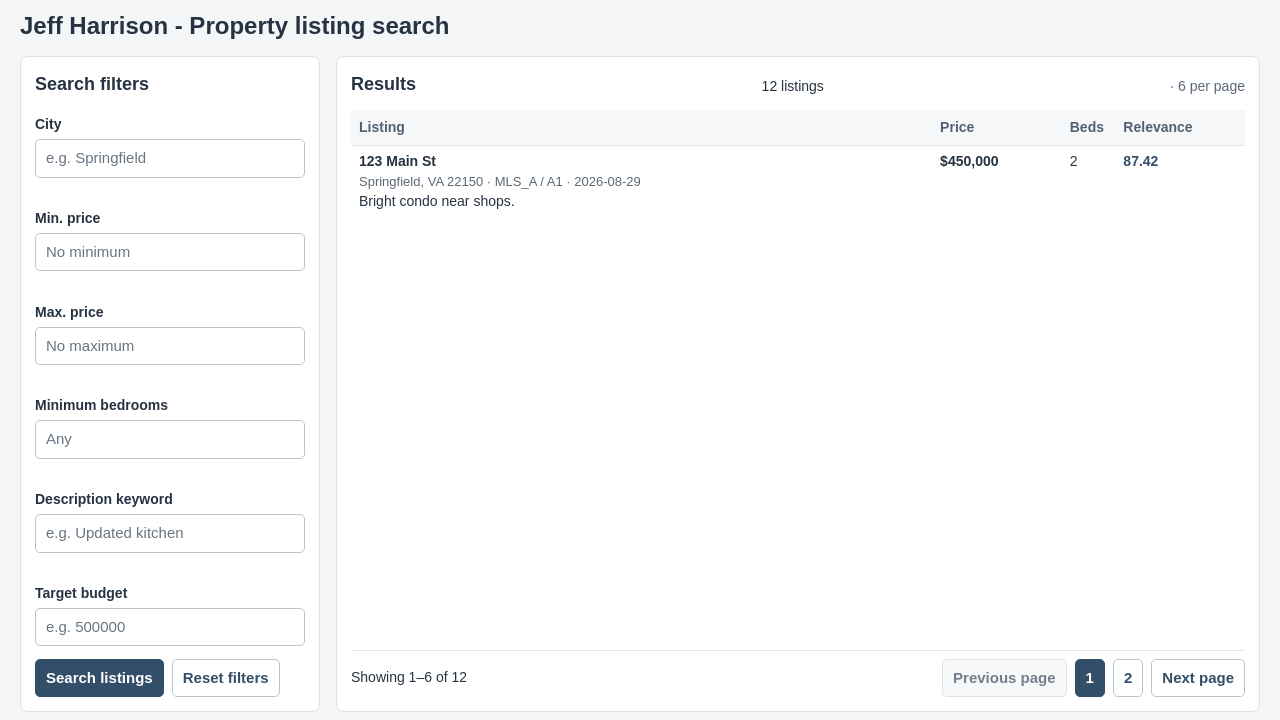
listing search › refreshes an unchanged search instead of returning only cached data
The image size is (1280, 720).
Expected: the text "$450,000" is shown, x1=932 y1=145 x2=1062 y2=650
Click the button "Search listings".
click(99, 678)  # box x1=35 y1=658 x2=164 y2=697
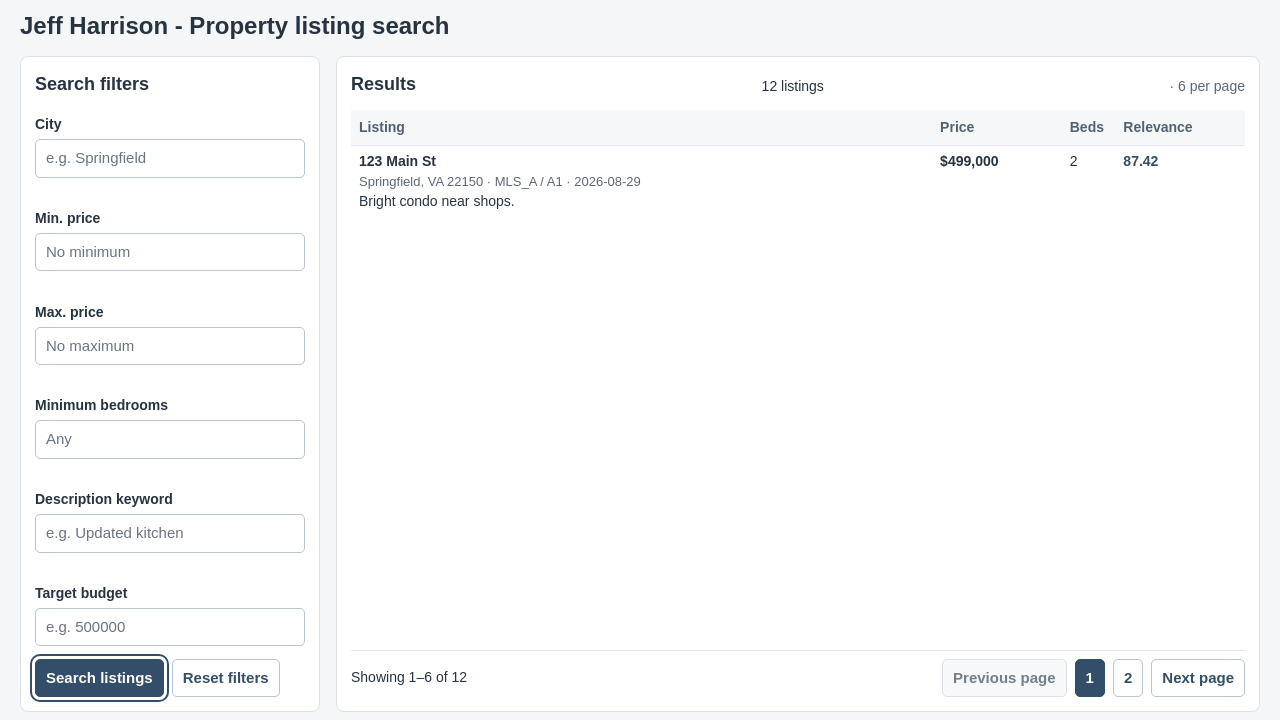
Expected: the text "$499,000" is shown, x1=932 y1=145 x2=1062 y2=650
